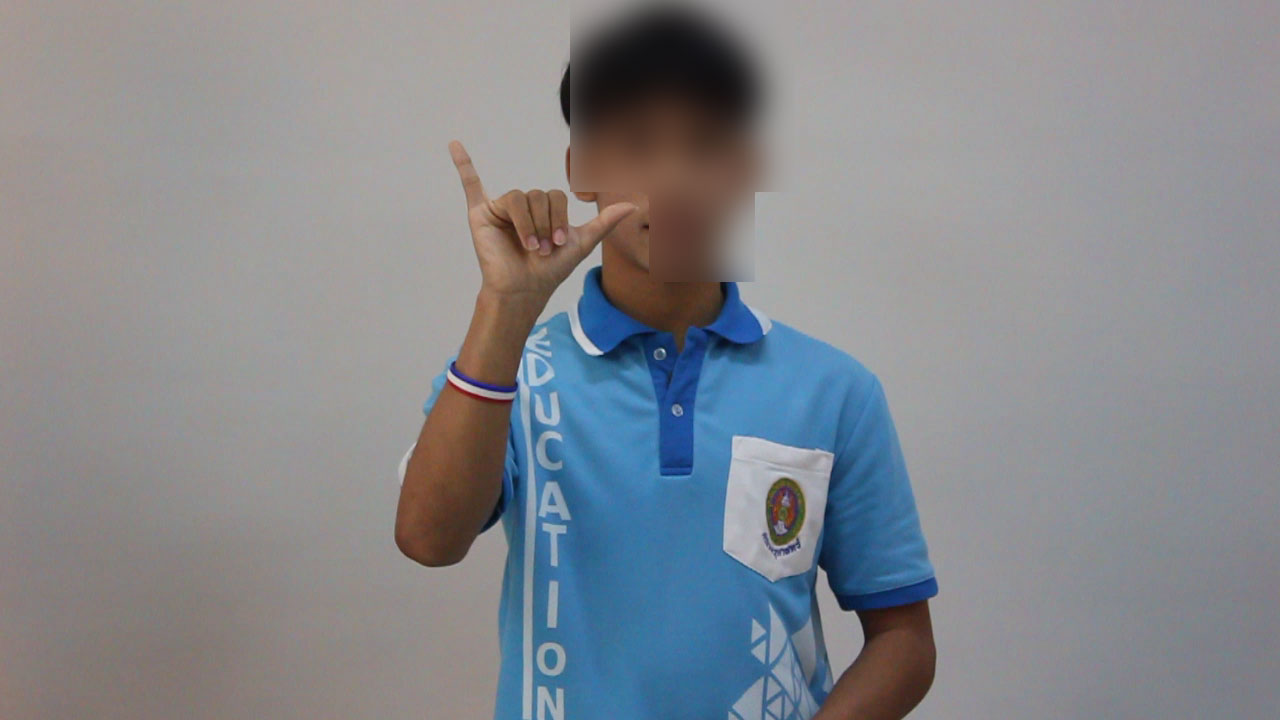yor: (435, 136, 645, 307)
